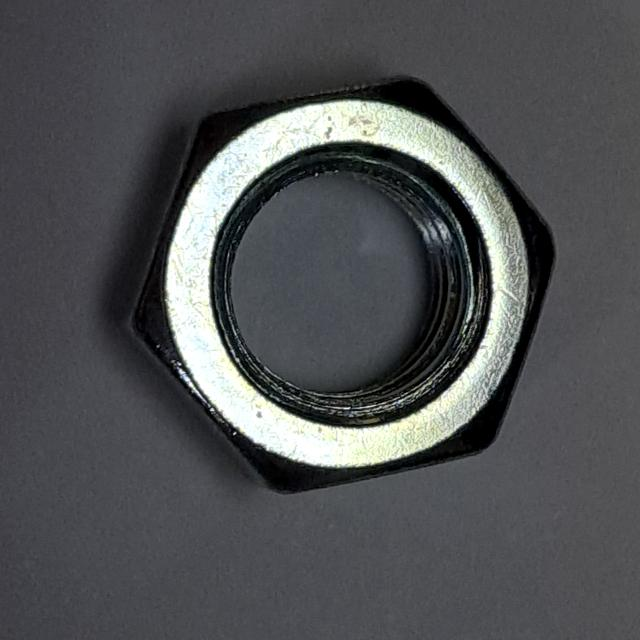Excellent: (102, 55, 564, 509)
